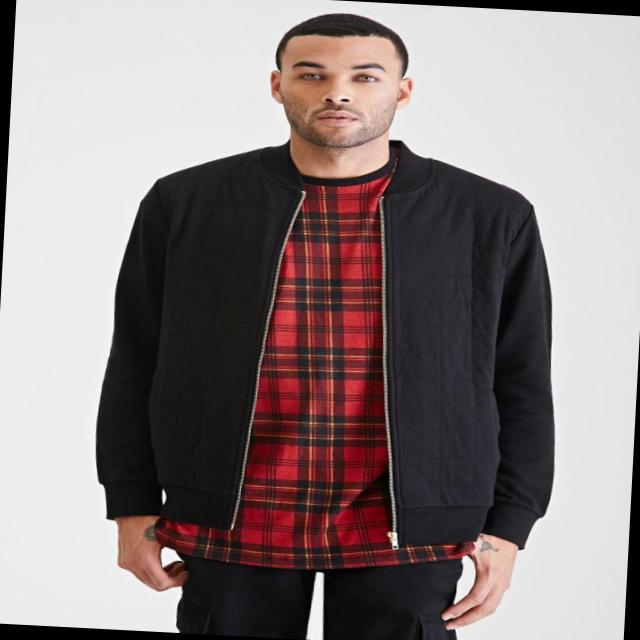Jacket: (96, 133, 584, 562)
